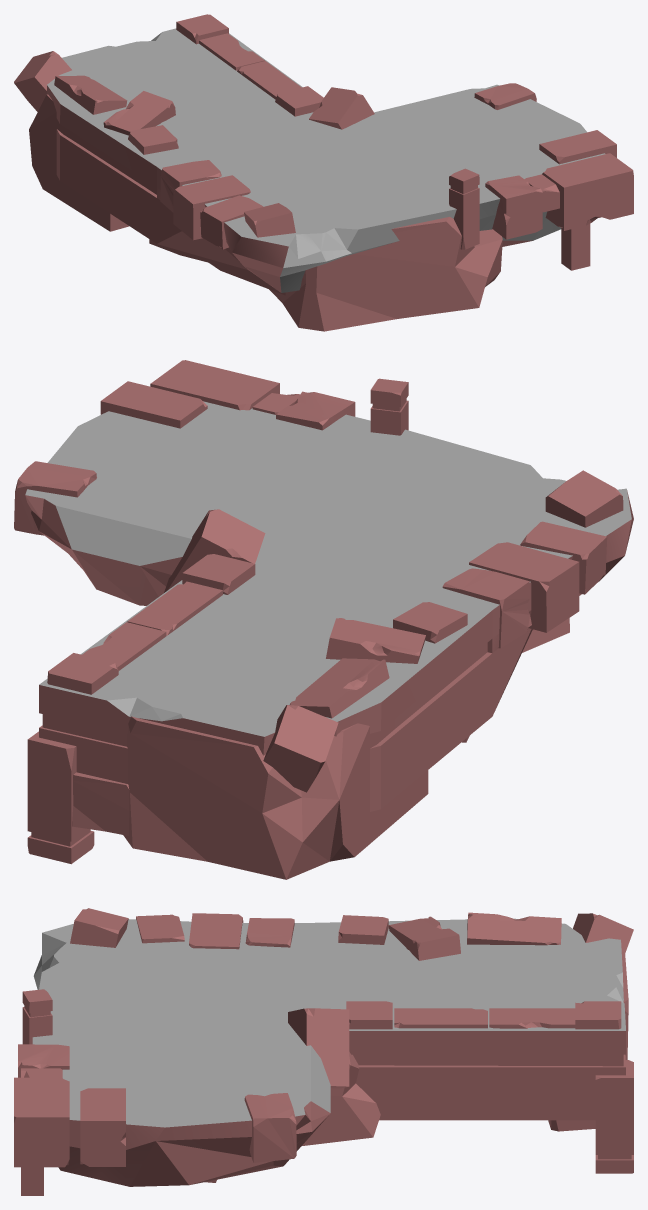
Rendered from SM_plateform_A.fbx.
3 renders of one model, top to bottom at view 1: azimuth 30°, elevation 25°; view 2: azimuth 150°, elevation 25°; view 3: azimuth 270°, elevation 25°, orthographic. The views are drawn at different scales.
Parts seen in each view (by area): view 1: Plateform_A; view 2: Plateform_A; view 3: Plateform_A.
Boxes of the visible parts, x1=… form: Plateform_A: x1=14, y1=14, x2=633, y2=331; Plateform_A: x1=14, y1=360, x2=633, y2=879; Plateform_A: x1=14, y1=908, x2=633, y2=1195.
Size of what is drawn, in the model's own units: 798 by 307 by 985.
